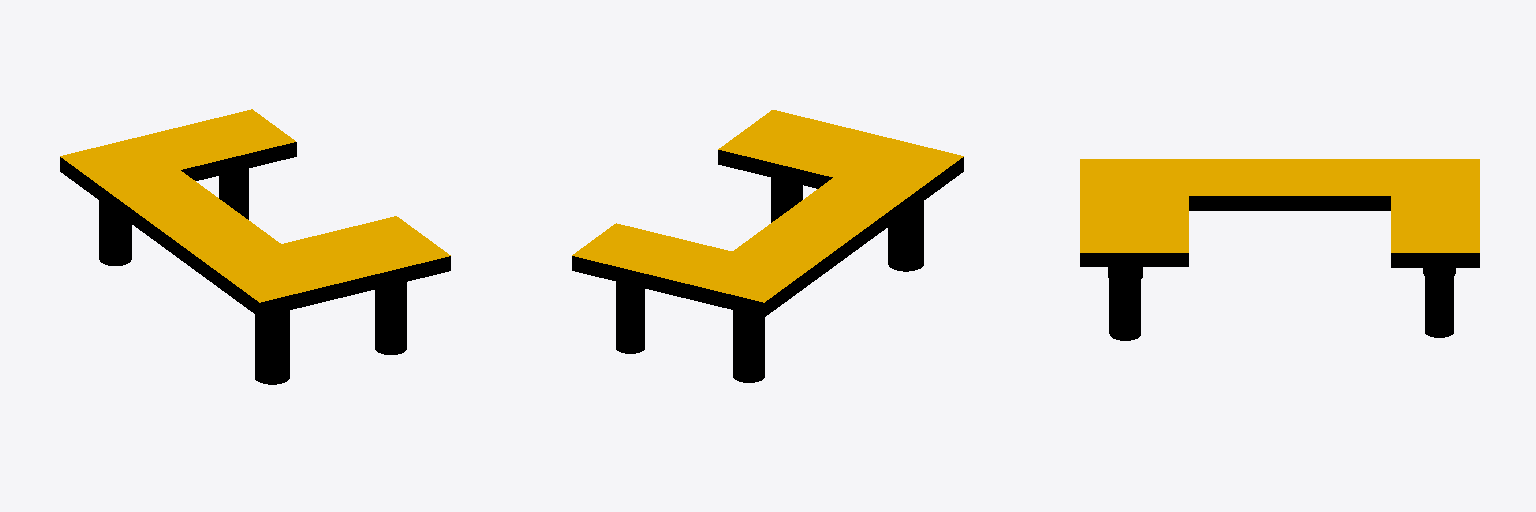
The model's file is table1.obj.
The picture shows the model from 3 angles: view 1: azimuth 30°, elevation 25°; view 2: azimuth 150°, elevation 25°; view 3: azimuth 270°, elevation 25°; orthographic projection.
Parts seen in each view (by area): view 1: Mesh1 Model; view 2: Mesh1 Model; view 3: Mesh1 Model.
Part boxes in pixels (bbox=[...]): Mesh1 Model: bbox=[60, 109, 450, 384]; Mesh1 Model: bbox=[572, 110, 963, 382]; Mesh1 Model: bbox=[1080, 159, 1479, 340].
Bounding box in the file's own units: 884 × 438 × 1588.